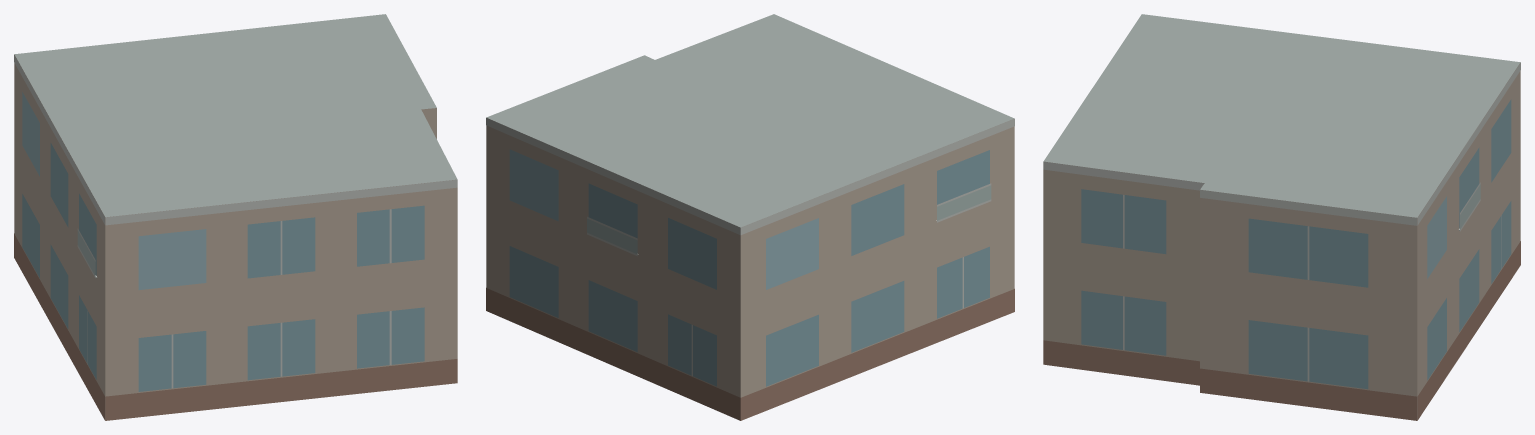
File: survey-upis-32824594.glb
The picture shows the model from 3 angles, left to right: view 1: azimuth 30°, elevation 25°; view 2: azimuth 150°, elevation 25°; view 3: azimuth 270°, elevation 25°; orthographic projection. The views are drawn at different scales.
Visible parts, largest first — view 1: survey-upis-32824594.tmp; view 2: survey-upis-32824594.tmp; view 3: survey-upis-32824594.tmp.
Boxes of the visible parts, bbox=[...] form: survey-upis-32824594.tmp: bbox=[14, 14, 457, 420]; survey-upis-32824594.tmp: bbox=[486, 14, 1014, 420]; survey-upis-32824594.tmp: bbox=[1043, 14, 1520, 420].
Size of the model in its own units: 13.14 by 6.1 by 13.01.
